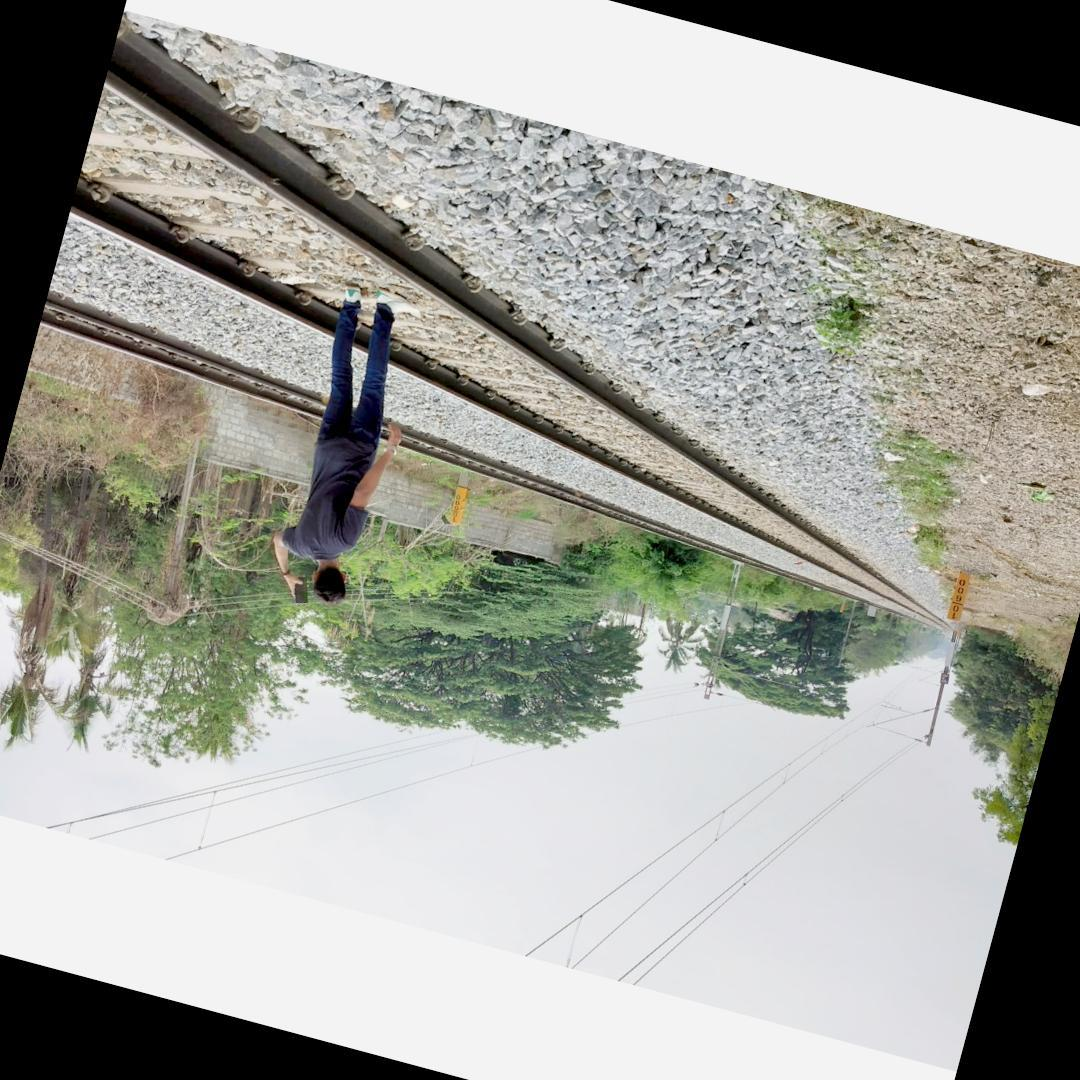standing: (245, 276, 448, 626)
track: (67, 9, 952, 630)
